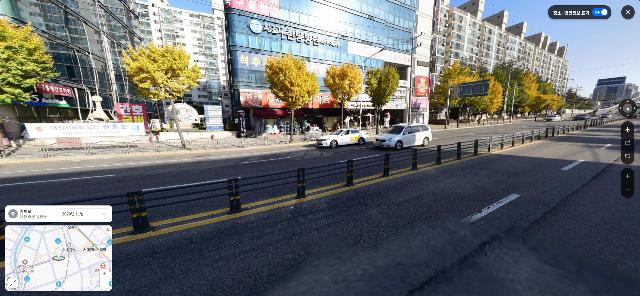ginkgo: (121, 40, 202, 148), (264, 52, 319, 142), (434, 61, 477, 128), (460, 66, 506, 127), (323, 62, 363, 129), (511, 70, 541, 123), (537, 93, 556, 120), (550, 95, 564, 116)
other: (0, 9, 58, 154), (365, 62, 402, 135), (493, 59, 528, 123)
